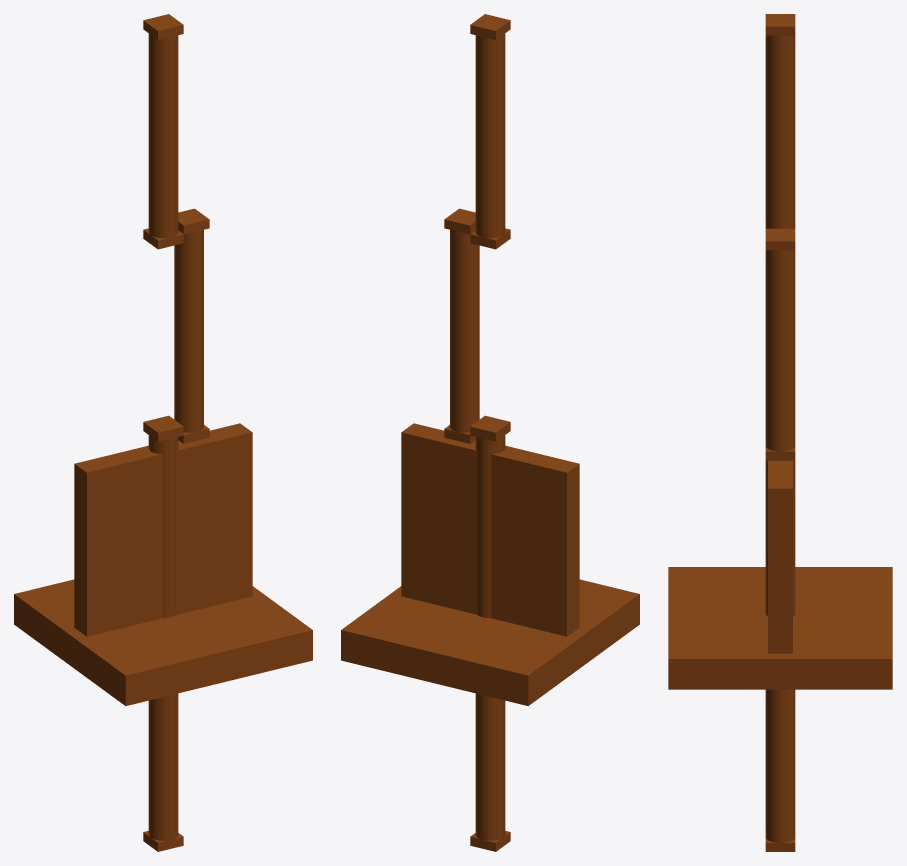
3 renders of one model, left to right at view 1: azimuth 30°, elevation 25°; view 2: azimuth 150°, elevation 25°; view 3: azimuth 270°, elevation 25°, orthographic.
Visible parts, largest first — view 1: backrest, seat, leg1, leg2, leg4, seat_left, backrest_left, leg3, backrest_top, seat_bottom, backrest_right, seat_left_bottom (+4 smaller); view 2: backrest, seat, leg1, leg2, leg4, seat_left, backrest_left, leg3, backrest_top, seat_bottom, backrest_right, seat_left_bottom (+4 smaller); view 3: seat, leg2, seat_right, leg1, leg4, backrest_right, seat_right_bottom, leg3, seat_left, leg2_top, leg1_top, backrest_top.
Part boxes in pixels (bbox=[...]): backrest: bbox=[94, 442, 244, 634]; seat: bbox=[23, 579, 304, 696]; leg1: bbox=[148, 33, 178, 238]; leg2: bbox=[174, 230, 203, 432]; leg4: bbox=[148, 693, 178, 840]; seat_left: bbox=[14, 592, 134, 697]; backrest_left: bbox=[74, 472, 95, 636]; leg3: bbox=[148, 435, 178, 618]; backrest_top: bbox=[83, 425, 244, 478]; seat_bottom: bbox=[133, 653, 304, 704]; backrest_right: bbox=[244, 441, 252, 598]; seat_left_bottom: bbox=[14, 616, 133, 705]; backrest: bbox=[409, 442, 559, 634]; seat: bbox=[349, 579, 630, 696]; leg1: bbox=[475, 33, 505, 238]; leg2: bbox=[450, 230, 479, 432]; leg4: bbox=[475, 693, 505, 840]; seat_left: bbox=[519, 592, 639, 697]; backrest_left: bbox=[558, 472, 579, 636]; leg3: bbox=[475, 435, 505, 618]; backrest_top: bbox=[409, 425, 570, 478]; seat_bottom: bbox=[349, 654, 520, 704]; backrest_right: bbox=[401, 441, 409, 598]; seat_left_bottom: bbox=[520, 616, 639, 705]; seat: bbox=[668, 571, 892, 654]; leg2: bbox=[765, 249, 795, 452]; seat_right: bbox=[668, 654, 892, 680]; leg1: bbox=[765, 35, 795, 228]; leg4: bbox=[765, 689, 795, 842]; backrest_right: bbox=[768, 497, 792, 653]; seat_right_bottom: bbox=[668, 680, 892, 689]; leg3: bbox=[765, 460, 795, 615]; seat_left: bbox=[668, 567, 892, 570]; leg2_top: bbox=[765, 228, 795, 250]; leg1_top: bbox=[765, 14, 795, 35]; backrest_top: bbox=[768, 460, 792, 484].
Size of the model in its own units: 0.436 by 1.83 by 0.45.
